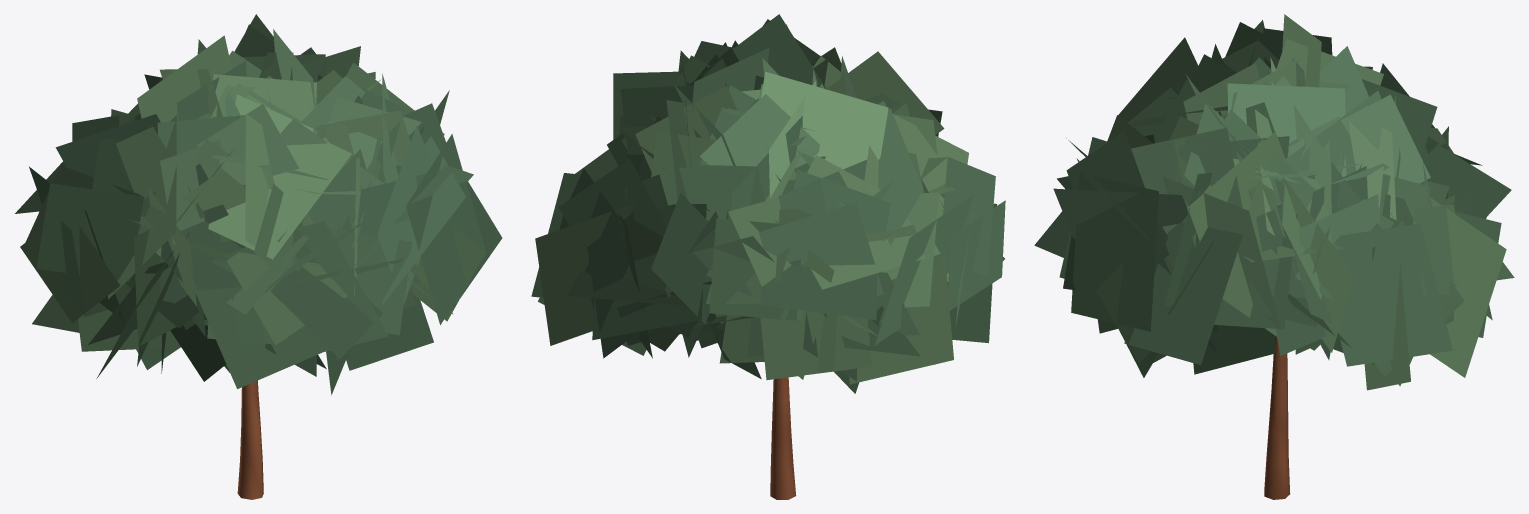
File: pine_1.glb
3 renders of one model, left to right at view 1: azimuth 30°, elevation 25°; view 2: azimuth 150°, elevation 25°; view 3: azimuth 270°, elevation 25°, orthographic. The views are drawn at different scales.
Parts seen in each view (by area): view 1: pine_1; view 2: pine_1; view 3: pine_1.
Part boxes in pixels (x1=…): pine_1: x1=15, y1=14, x2=502, y2=499; pine_1: x1=531, y1=14, x2=1005, y2=499; pine_1: x1=1034, y1=14, x2=1514, y2=499.
Size of the model in its own units: 1 by 1 by 0.967.
